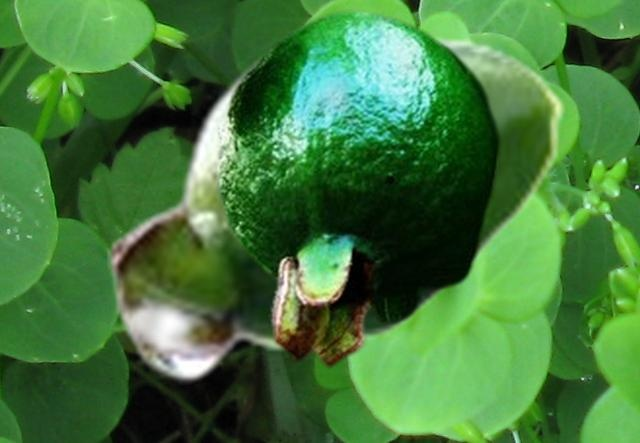guava: (107, 31, 565, 383), (214, 7, 502, 368)
